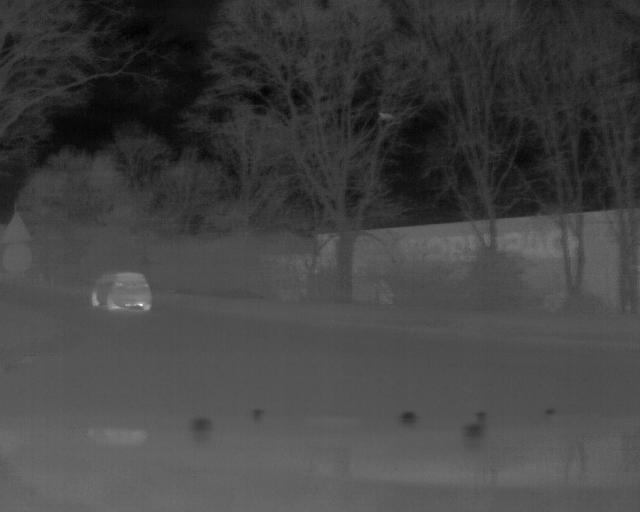car: (89, 271, 156, 315)
